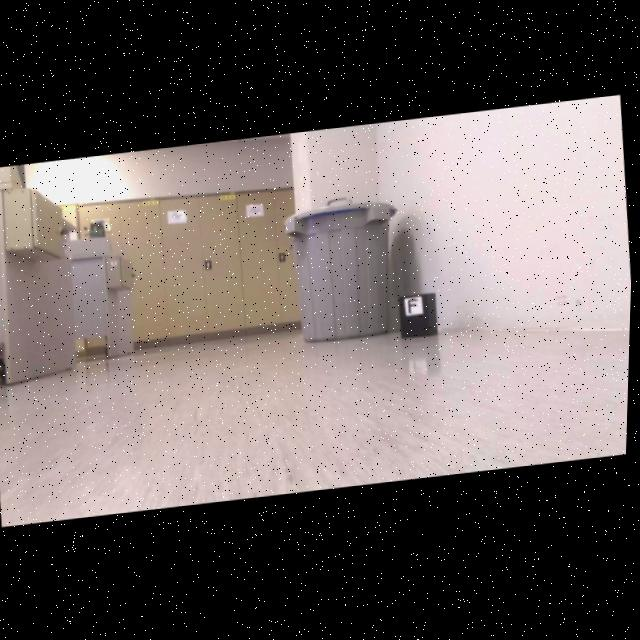F: (410, 301, 419, 316)
